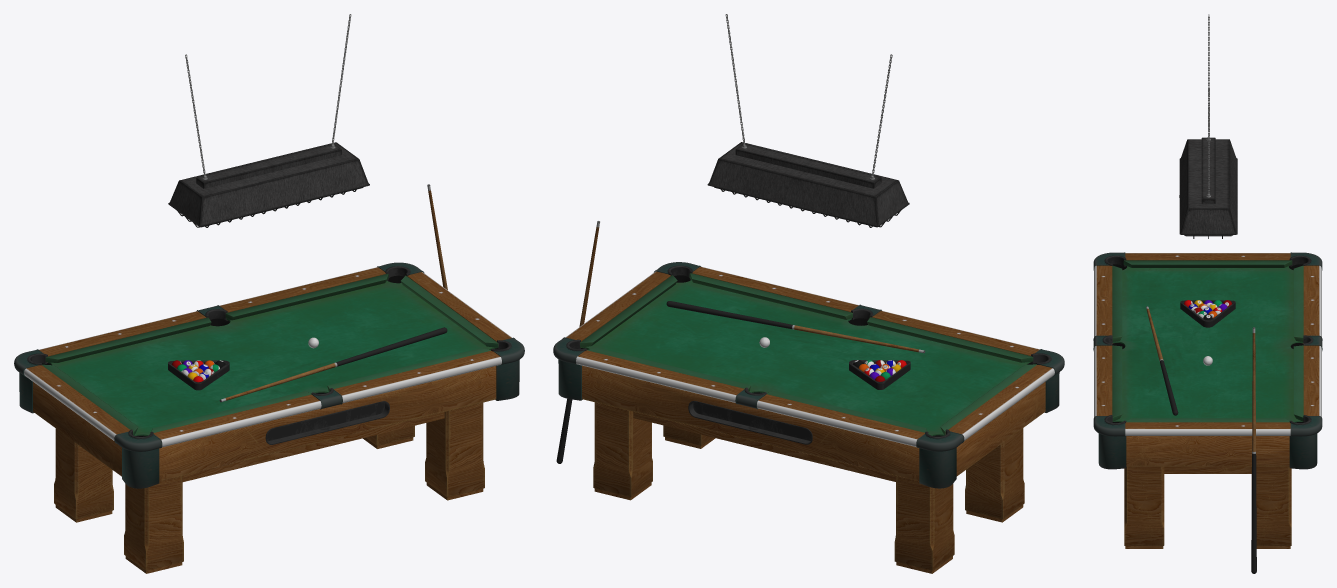
The model's file is pool_table.glb.
The picture shows the model from 3 angles, left to right: view 1: azimuth 30°, elevation 25°; view 2: azimuth 150°, elevation 25°; view 3: azimuth 270°, elevation 25°; orthographic projection. The views are drawn at different scales.
Parts seen in each view (by area): view 1: Plane.042, Cube.026, Plane.041, Cube.025, Plane.032, Plane.040, Plane.039, Plane.036, Plane.030, Plane.031, Plane.038, Plane.037 (+4 smaller); view 2: Plane.042, Cube.026, Plane.041, Cube.025, Plane.032, Plane.040, Plane.039, Plane.036, Plane.030, Plane.031, Plane.038, Plane.037 (+5 smaller); view 3: Plane.042, Cube.026, Cube.025, Plane.032, Plane.030, Plane.039, Plane.040, Plane.031, Plane.036, Plane.037, Cylinder.035, Plane.029 (+3 smaller).
Part boxes in pixels (box(x1,y1,x2,y2)): Plane.042: box(48, 281, 496, 435); Cube.026: box(54, 402, 484, 573); Plane.041: box(159, 366, 496, 481); Cube.025: box(168, 142, 369, 226); Plane.032: box(39, 267, 501, 447); Plane.040: box(45, 273, 490, 432); Plane.039: box(24, 272, 512, 440); Plane.036: box(19, 360, 519, 488); Plane.030: box(33, 382, 121, 476); Plane.031: box(42, 275, 498, 435); Plane.038: box(182, 412, 444, 481); Plane.037: box(14, 262, 524, 451); Plane.042: box(581, 280, 1030, 435); Cube.026: box(593, 402, 1024, 573); Plane.041: box(582, 365, 919, 481); Cube.025: box(707, 142, 909, 226); Plane.032: box(576, 266, 1039, 446); Plane.040: box(587, 273, 1033, 432); Plane.039: box(565, 271, 1054, 440); Plane.036: box(558, 359, 1059, 488); Plane.030: box(956, 382, 1045, 476); Plane.031: box(580, 275, 1036, 435); Plane.038: box(633, 411, 895, 481); Plane.037: box(553, 262, 1064, 451); Plane.042: box(1112, 266, 1303, 422); Cube.026: box(1124, 466, 1291, 548); Cube.025: box(1179, 137, 1237, 234); Plane.032: box(1094, 265, 1321, 417); Plane.030: box(1126, 436, 1289, 466); Plane.039: box(1125, 253, 1290, 435); Plane.040: box(1112, 265, 1303, 421); Plane.031: box(1123, 260, 1292, 422); Plane.036: box(1098, 433, 1317, 469); Plane.037: box(1093, 252, 1322, 436); Cylinder.035: box(1251, 327, 1256, 573); Plane.029: box(1164, 466, 1251, 473).
Bounding box in the file's own units: 2.63 × 2.74 × 1.34.
Materials: 1 (1 with a texture image).
